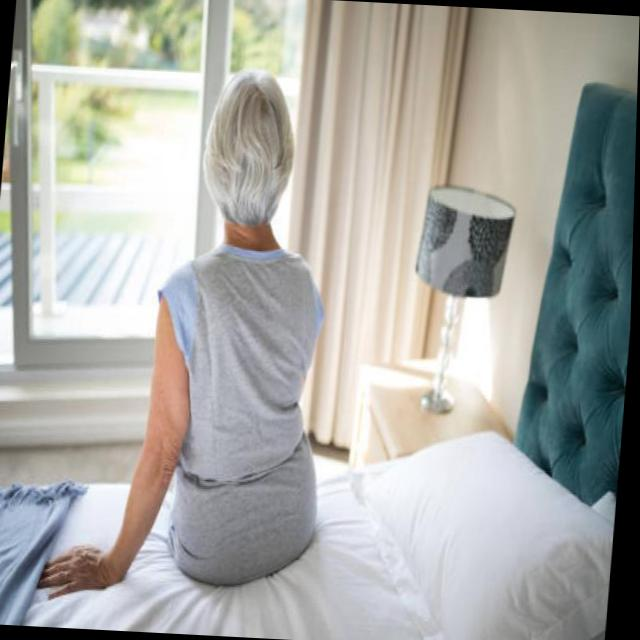no helmet: (188, 57, 315, 258)
